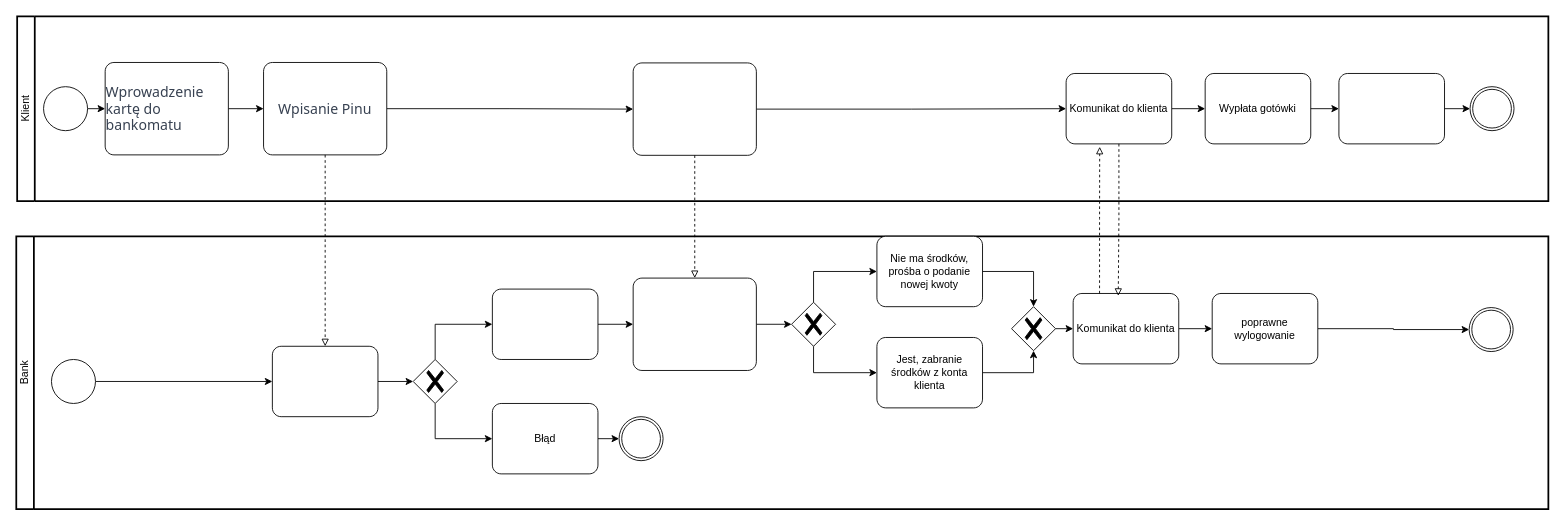
The diagram is 1564 pixels wide and 524 high, and some of its shapes have lost their labels. Each missing label, with the centre of its shape:
"Bankomat sprawdza czy na koncie jest wystarczająco środków" belongs at [694,323].
"Bankomat weryfikuje poprawność karty" belongs at [324,381].
"Podanie kwoty" belongs at [694,108].
"Wydanie karty" belongs at [1391,108].
"Zaloguj" belongs at [544,323].
